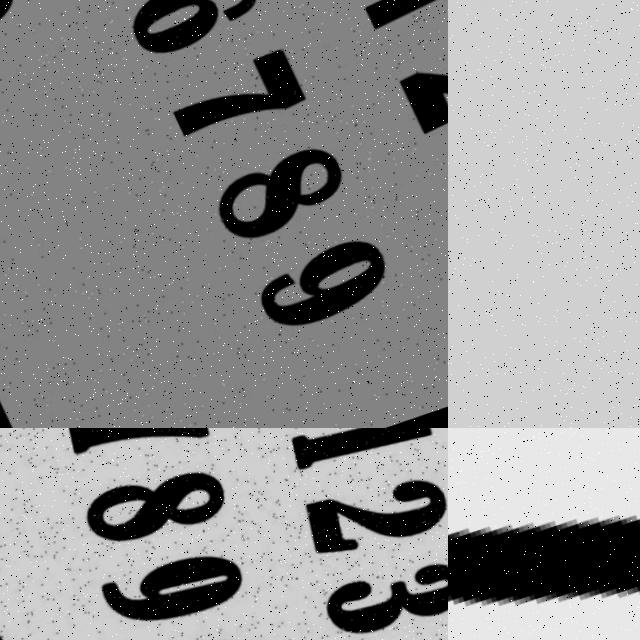0: (95, 603, 289, 640), (0, 0, 52, 86)
1: (271, 428, 448, 499), (323, 0, 448, 60)
2: (277, 449, 448, 589), (374, 12, 448, 155)
3: (300, 537, 448, 640), (415, 113, 448, 248)
6: (105, 0, 285, 78)
7: (136, 34, 330, 175), (36, 428, 239, 492)
8: (57, 433, 259, 582), (189, 122, 384, 267)
9: (221, 218, 421, 363), (67, 521, 271, 640)
F: (448, 428, 640, 640)
